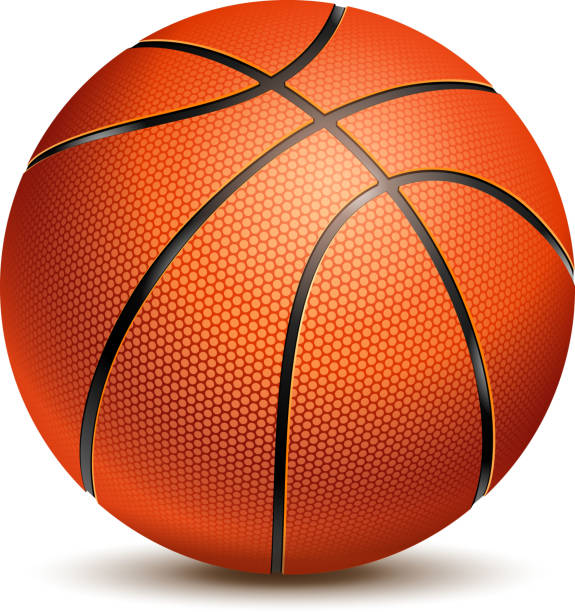b_ball: (2, 5, 575, 612)
